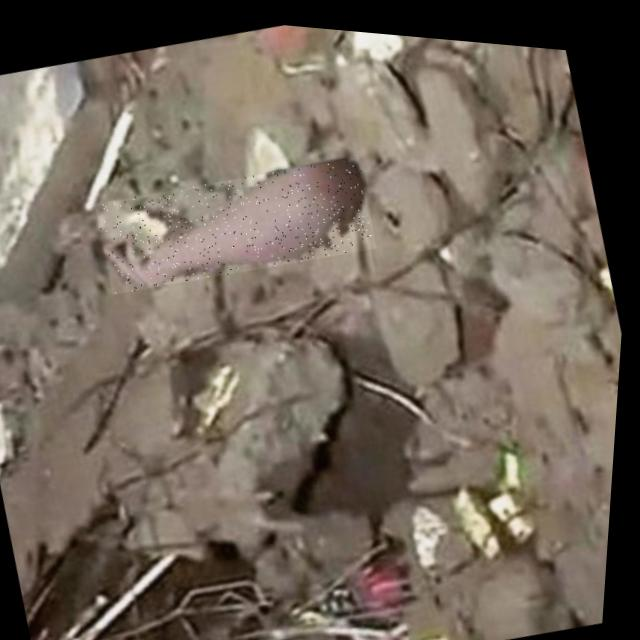Person in Rubble: (92, 130, 384, 308)
